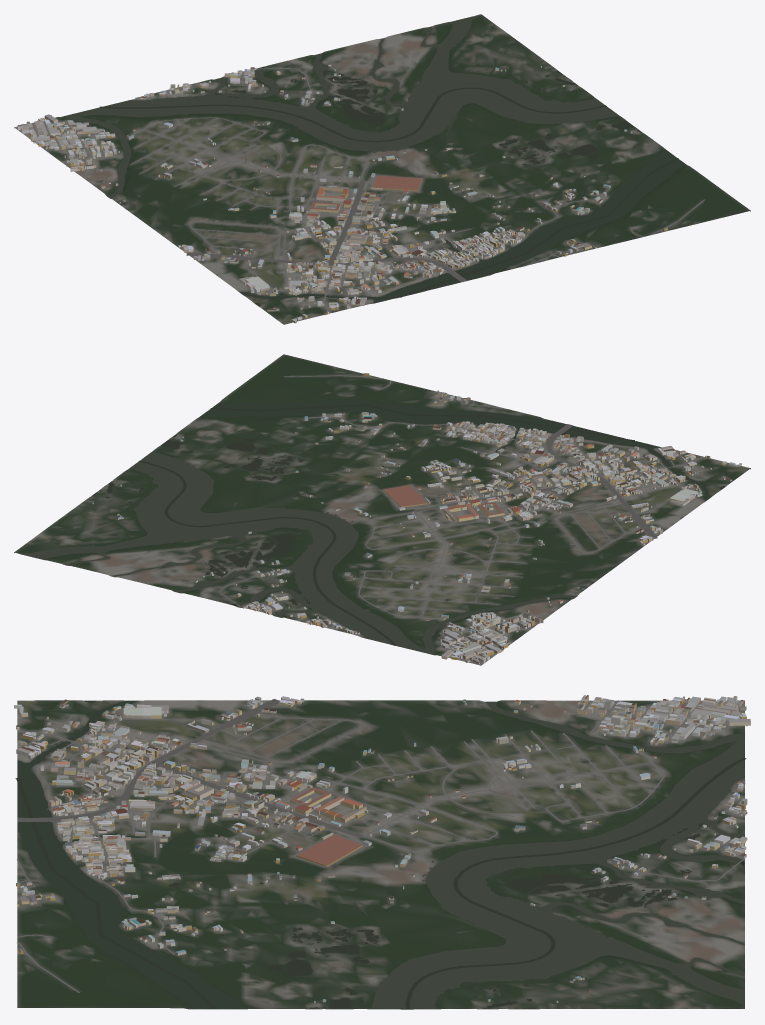
3 views of the same model, one above another, from view 1: azimuth 30°, elevation 25°; view 2: azimuth 150°, elevation 25°; view 3: azimuth 270°, elevation 25° (orthographic). The views are drawn at different scales.
Visible parts, largest first — view 1: ground, water, buildings, roads; view 2: ground, water, buildings, roads; view 3: ground, water, buildings, roads.
Boxes of the visible parts, box(x1,y1,x2,y2) form: ground: box(14, 14, 750, 324); water: box(63, 16, 684, 306); buildings: box(17, 63, 667, 323); roads: box(28, 68, 704, 317); ground: box(14, 354, 750, 665); water: box(23, 379, 724, 654); buildings: box(92, 373, 741, 664); roads: box(218, 375, 722, 661); ground: box(17, 700, 744, 1009); water: box(15, 700, 746, 1009); buildings: box(14, 695, 750, 1003); roads: box(17, 699, 745, 992).
Bounding box in the file's own units: 1411 × 20.17 × 1419.
